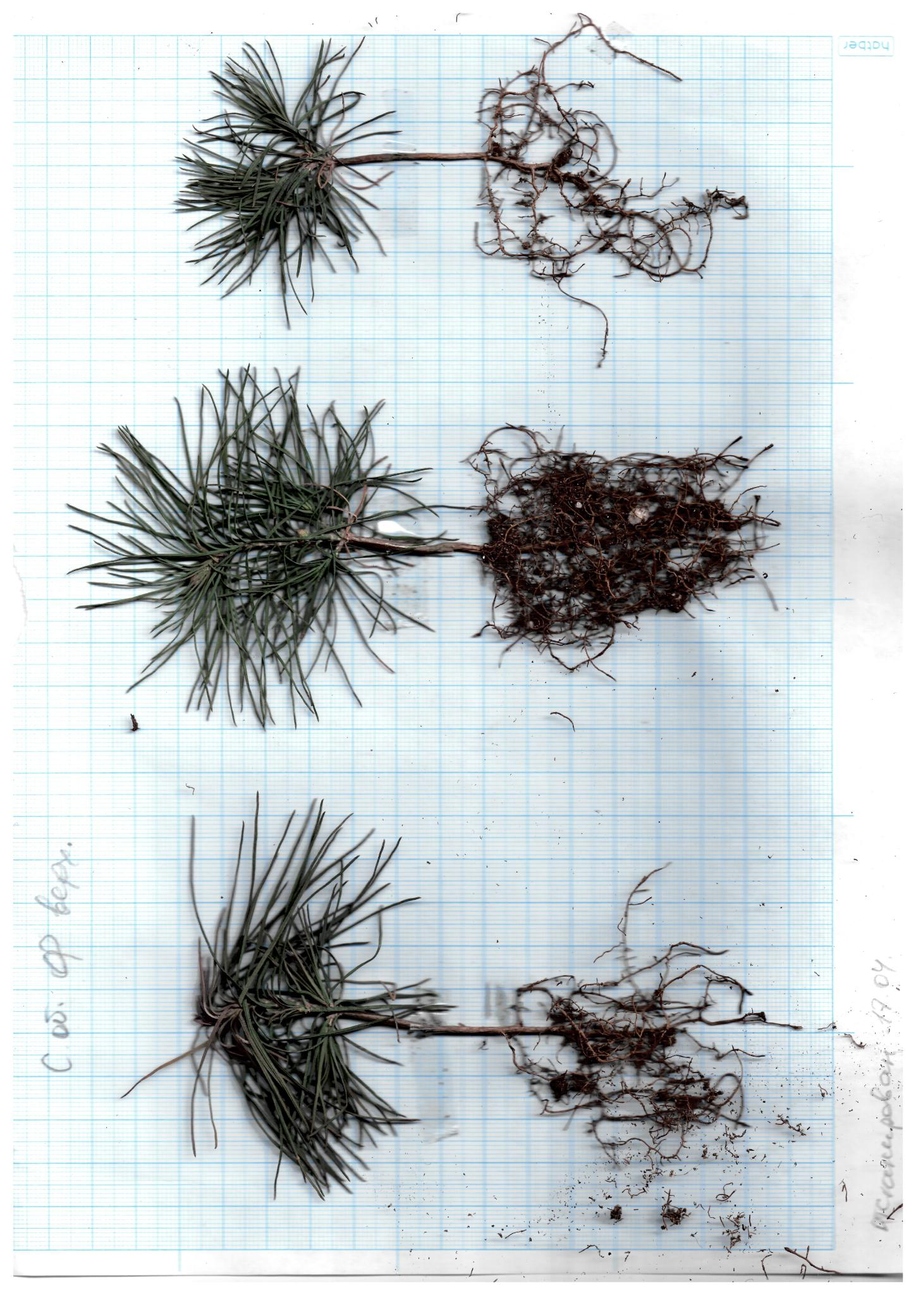Seeding: (111, 780, 815, 1219), (63, 357, 809, 735), (170, 15, 781, 371)
